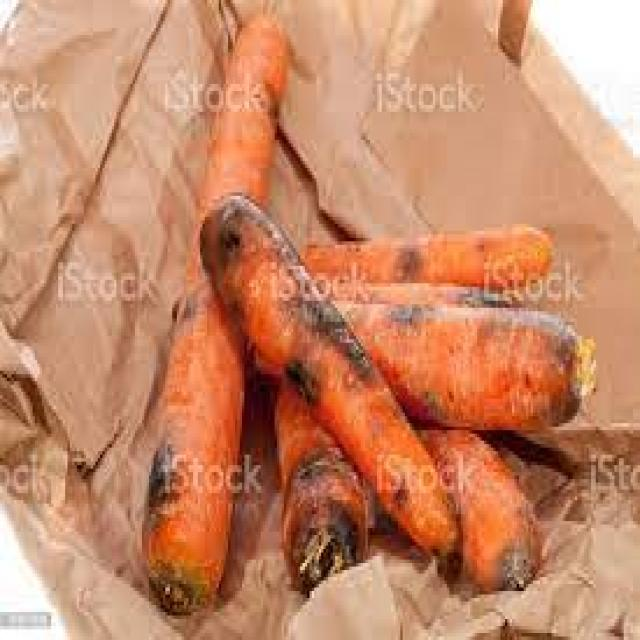Stale_Carrot: (179, 160, 463, 620), (144, 0, 289, 591), (352, 284, 605, 415)
